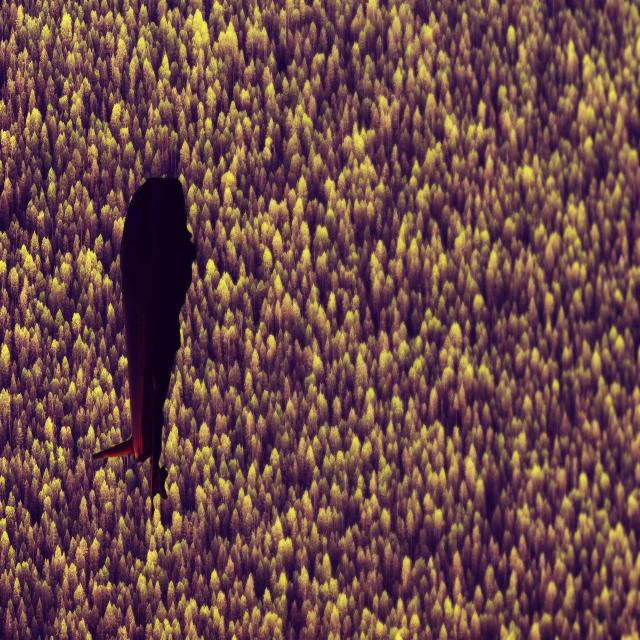airplane: (91, 174, 197, 518)
